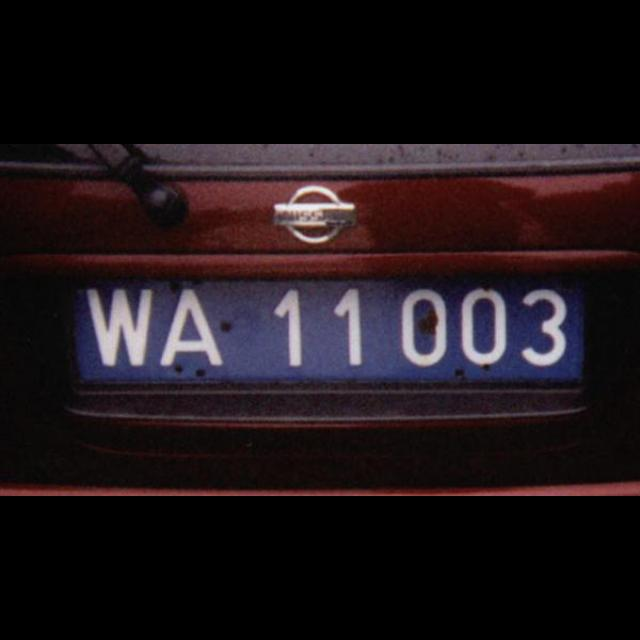pl_license_plate: (79, 281, 582, 379)
